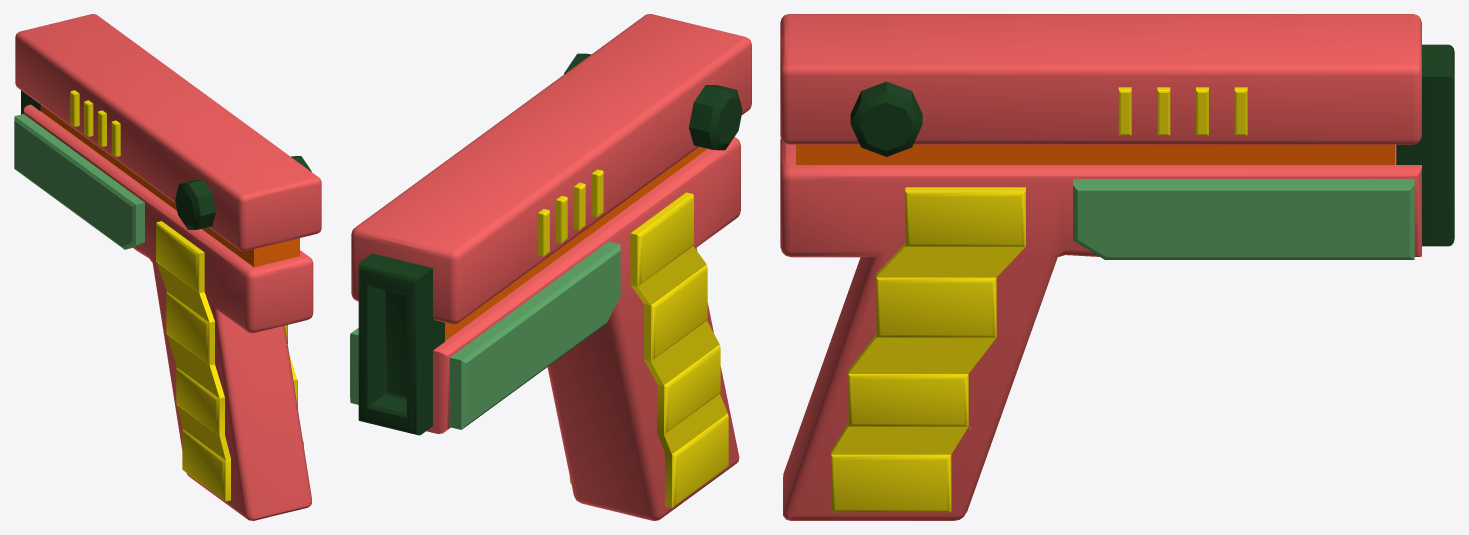
Rendered from nomalgoun.fbx.
3 renders of one model, left to right at view 1: azimuth 30°, elevation 25°; view 2: azimuth 150°, elevation 25°; view 3: azimuth 270°, elevation 25°, orthographic. The views are drawn at different scales.
Visible parts, largest first — view 1: Cube.023, Cube.021, Cube.024, Cube.025, Cube.022, Cylinder.003, Cube.027; view 2: Cube.023, Cube.021, Cube.024, Cube.025, Cube.026, Cylinder.003, Cube.022, Cube.027; view 3: Cube.023, Cube.021, Cube.024, Cube.025, Cube.022, Cube.026, Cylinder.003, Cube.027.
Boxes of the visible parts, <box> form: Cube.023: <box>15,14,321,251</box>; Cube.021: <box>23,104,313,520</box>; Cube.024: <box>156,221,303,501</box>; Cube.025: <box>14,114,144,249</box>; Cube.022: <box>41,105,299,267</box>; Cylinder.003: <box>175,156,311,229</box>; Cube.027: <box>70,90,120,156</box>; Cube.023: <box>351,14,751,324</box>; Cube.021: <box>426,137,740,520</box>; Cube.024: <box>569,192,728,508</box>; Cube.025: <box>350,241,620,429</box>; Cube.026: <box>358,253,444,435</box>; Cylinder.003: <box>564,53,742,150</box>; Cube.022: <box>445,146,707,340</box>; Cube.027: <box>538,169,603,256</box>; Cube.023: <box>780,14,1421,144</box>; Cube.021: <box>780,138,1421,520</box>; Cube.024: <box>831,187,1025,512</box>; Cube.025: <box>1073,179,1414,259</box>; Cube.022: <box>796,144,1394,164</box>; Cube.026: <box>1396,44,1454,246</box>; Cylinder.003: <box>850,81,922,156</box>; Cube.027: <box>1118,87,1247,135</box>.
Bounding box in the file's own units: 3.42 × 2.58 × 0.9877.
